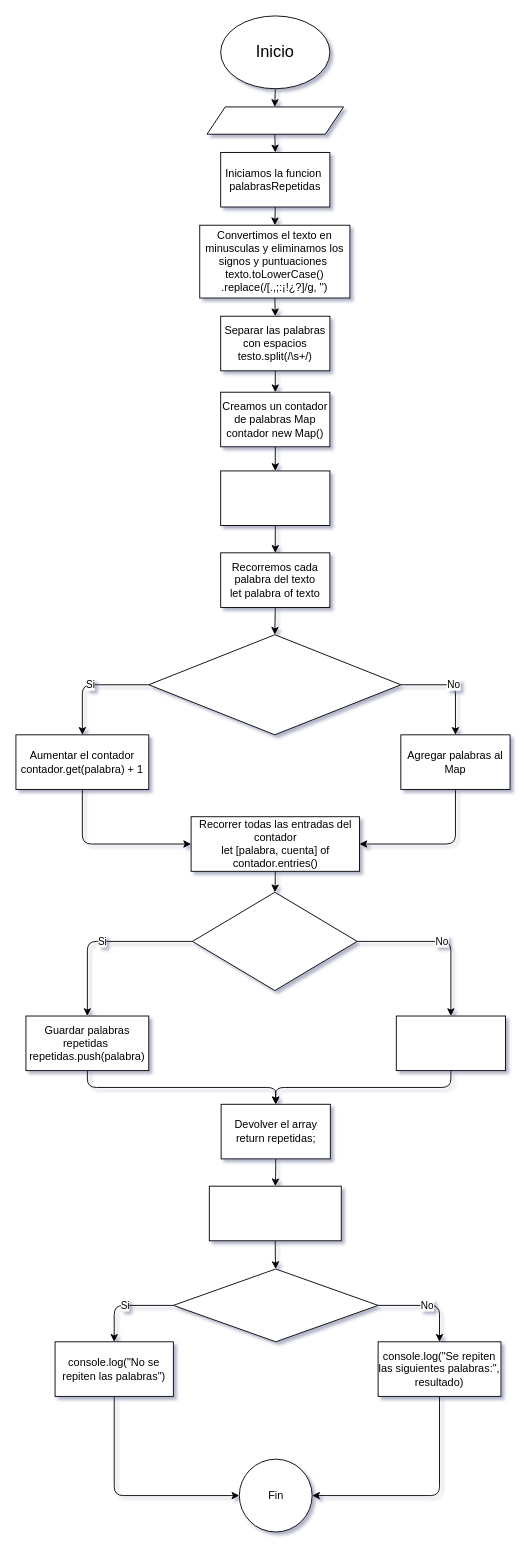
The diagram is 531 pixels wide and 1553 high, and some of its shapes have lost their labels. Each missing label, with the centre of its shape:
"Creamos un contenedor para las palabras vacias repetidas = []" belongs at pixel 275 498.
"El resultado es igual a 0? resultado === 0" belongs at pixel 275 1305.
"Guardamos palabrasRepetidas(texto) en la variable resultado" belongs at pixel 274 1213.
"Hay palabras repetidas? cuenta > 1" belongs at pixel 274 941.
"Introducimos un texto" belongs at pixel 275 120.
"La palabra ya existe en el mapa?" belongs at pixel 274 684.
"No agregar nada" belongs at pixel 450 1043.
